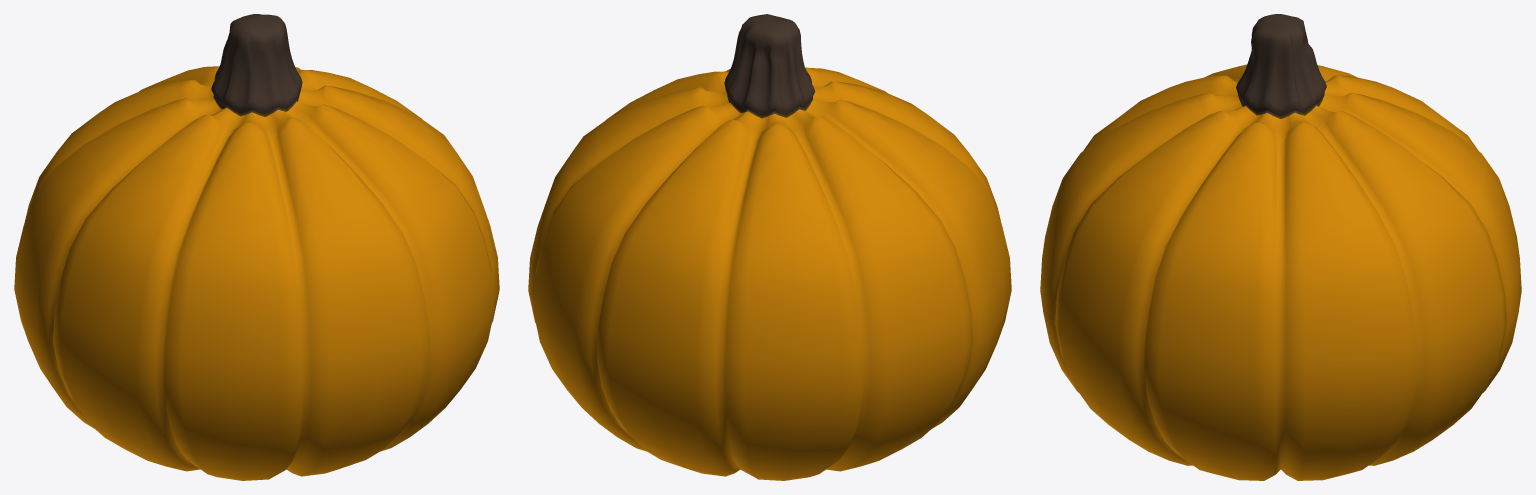
The model's file is FBXcitrouille.fbx.
3 renders of one model, left to right at view 1: azimuth 30°, elevation 25°; view 2: azimuth 150°, elevation 25°; view 3: azimuth 270°, elevation 25°, orthographic.
Parts seen in each view (by area): view 1: pSphere4; view 2: pSphere4; view 3: pSphere4.
Boxes of the visible parts, left/top/right/bottom form: pSphere4: left=14, top=14, right=499, bottom=480; pSphere4: left=528, top=14, right=1011, bottom=480; pSphere4: left=1040, top=14, right=1521, bottom=480.
Bounding box in the file's own units: 1.96 × 1.89 × 1.95.
